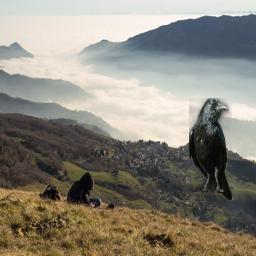Crow: (189, 98, 232, 200)
